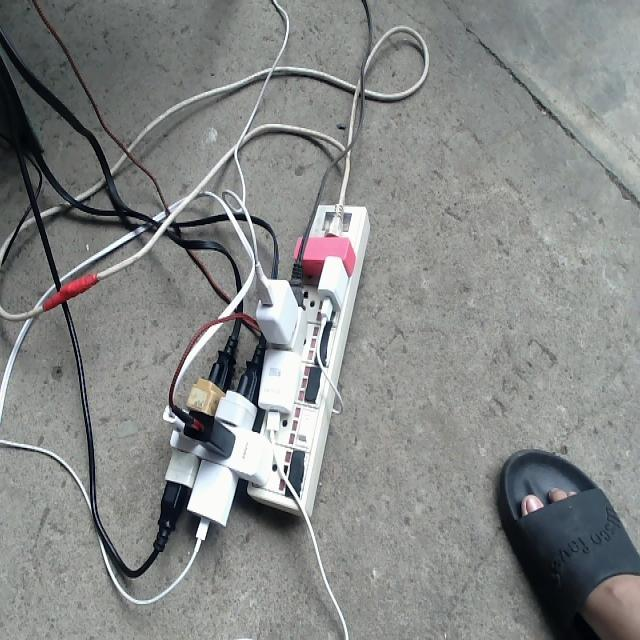-: (159, 202, 373, 530)
